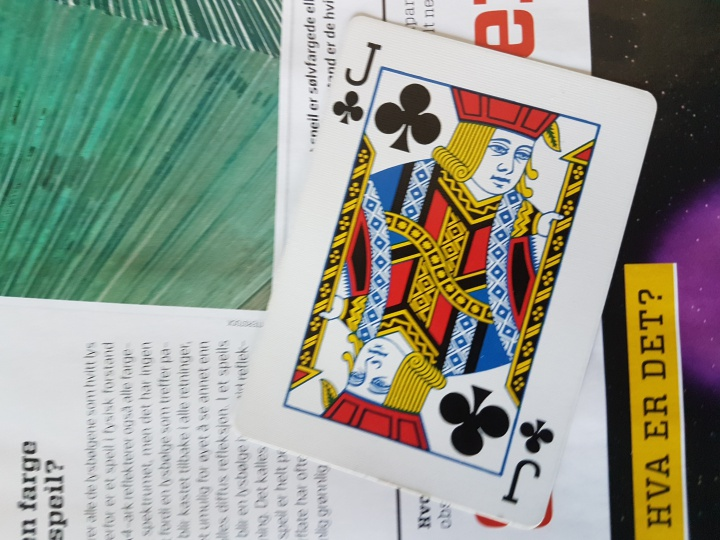jack: (229, 14, 659, 530)
